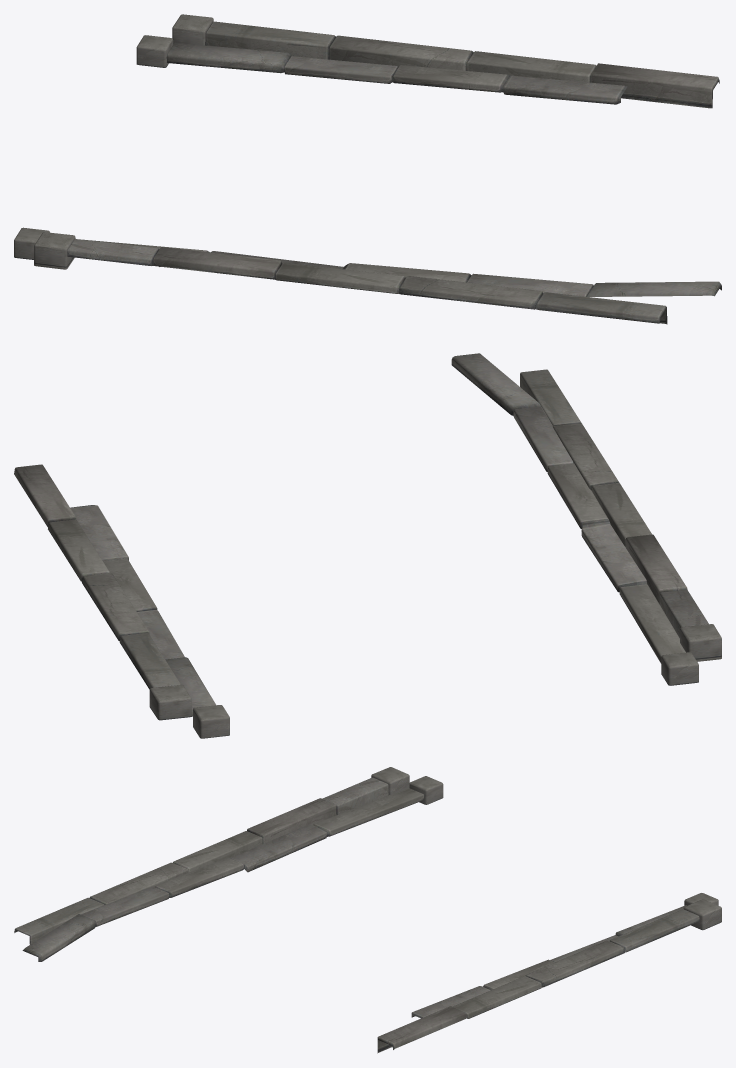
The model's file is SM_ENV_LKNVLD_Ground_Right_SideTrimOuter_04.FBX.
3 renders of one model, top to bottom at view 1: azimuth 30°, elevation 25°; view 2: azimuth 150°, elevation 25°; view 3: azimuth 270°, elevation 25°, orthographic. The views are drawn at different scales.
Parts seen in each view (by area): view 1: SM_ENV_LKNVLD_Ground_Right_SideTrimOuter_04; view 2: SM_ENV_LKNVLD_Ground_Right_SideTrimOuter_04; view 3: SM_ENV_LKNVLD_Ground_Right_SideTrimOuter_04.
Boxes of the visible parts, bbox=[...] form: SM_ENV_LKNVLD_Ground_Right_SideTrimOuter_04: bbox=[14, 14, 721, 324]; SM_ENV_LKNVLD_Ground_Right_SideTrimOuter_04: bbox=[14, 353, 721, 738]; SM_ENV_LKNVLD_Ground_Right_SideTrimOuter_04: bbox=[14, 767, 721, 1053].
Size of the model in its own units: 1245 by 55.37 by 1346.
